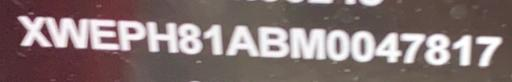letter: (45, 15, 89, 48), (286, 25, 326, 59), (143, 19, 181, 53), (113, 15, 147, 52), (16, 13, 50, 47), (85, 16, 119, 50), (226, 22, 258, 58), (473, 31, 505, 67), (256, 25, 290, 57), (399, 28, 427, 63), (424, 29, 452, 64), (348, 27, 376, 61), (374, 29, 402, 63), (200, 20, 226, 56), (450, 29, 474, 66), (177, 20, 203, 53), (324, 27, 350, 59)
